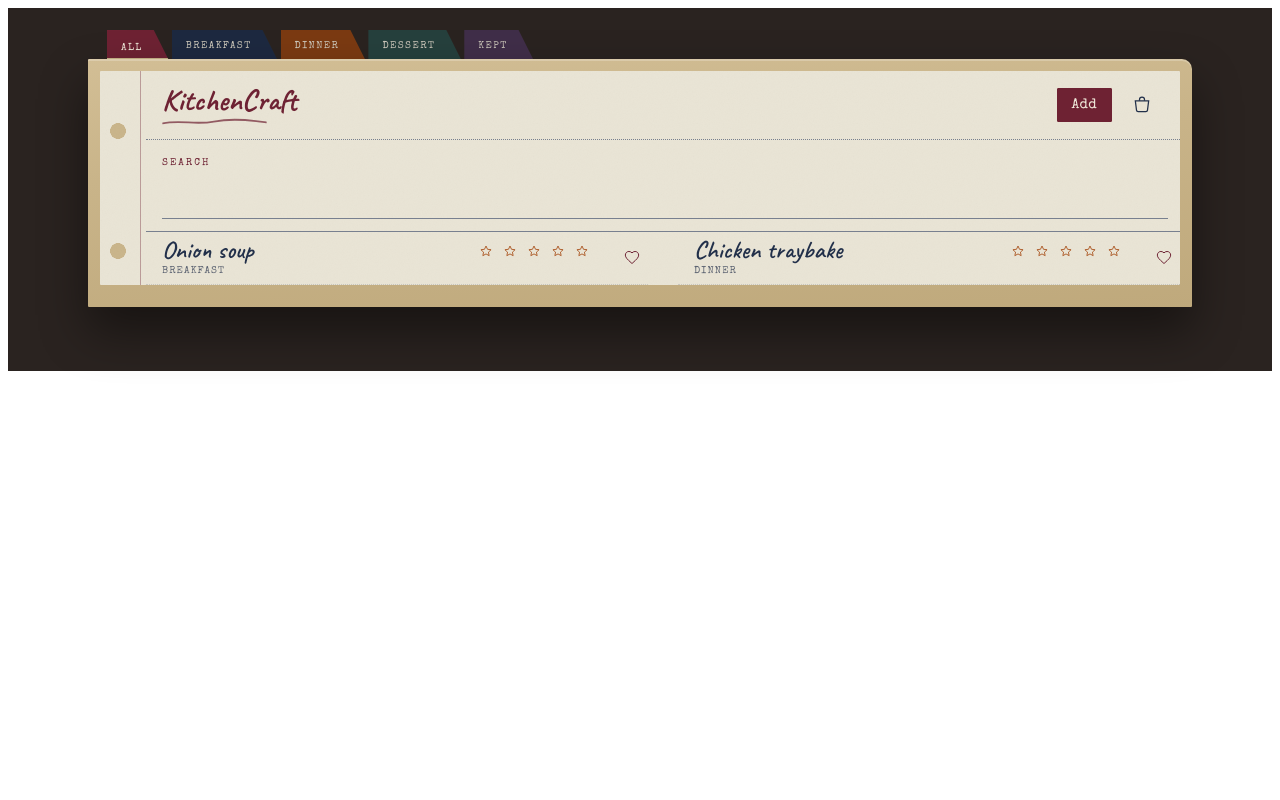
Test: the zero-result state › clears just that one filter from its own line
Click the button with test id "tab-dinner". click: (323, 45)
box: 280,30 -> 365,60
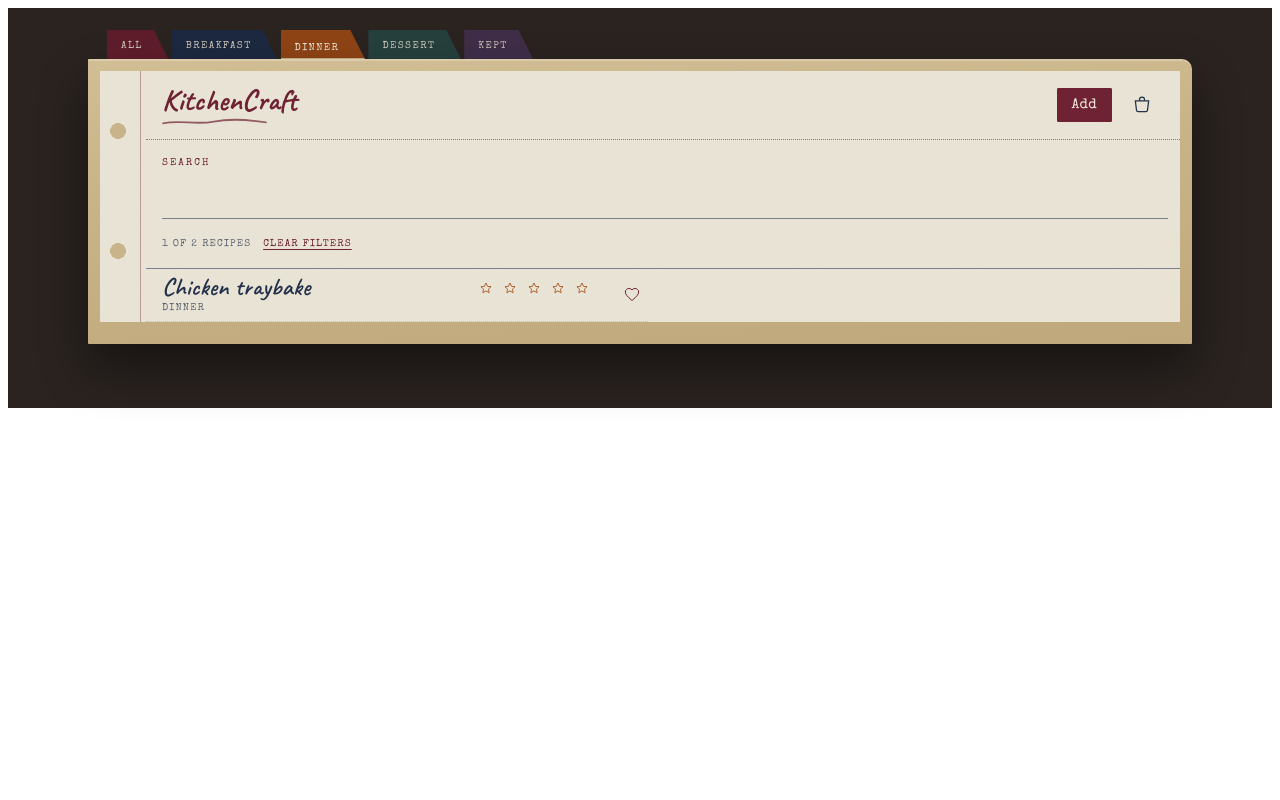
Type "crumble" into the field with test id "search". click: (665, 198)
box: 162,176 -> 1168,219
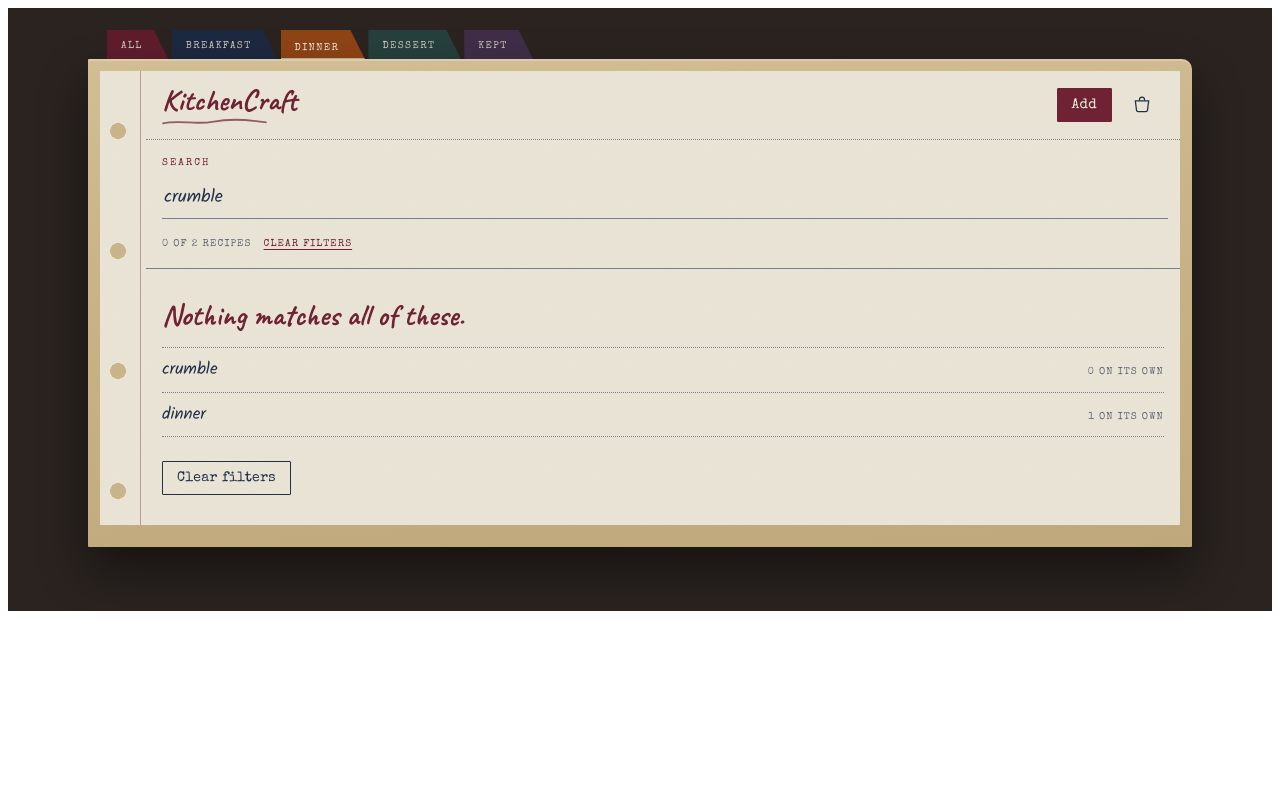
Click the button with test id "clear-search-crumble". click: (190, 370)
box: 162,348 -> 1164,393
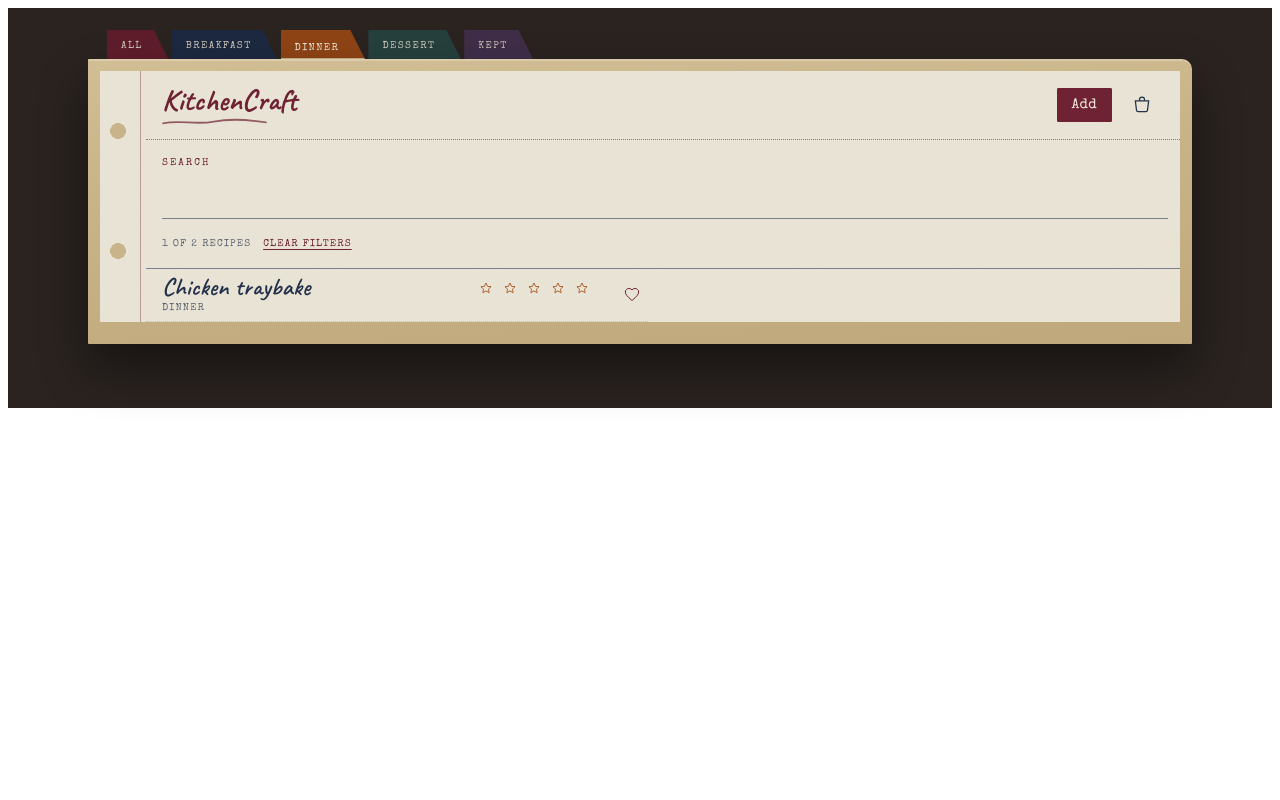
Now the number of list items with class "kc-row" is 1, box 146,269 -> 648,322
